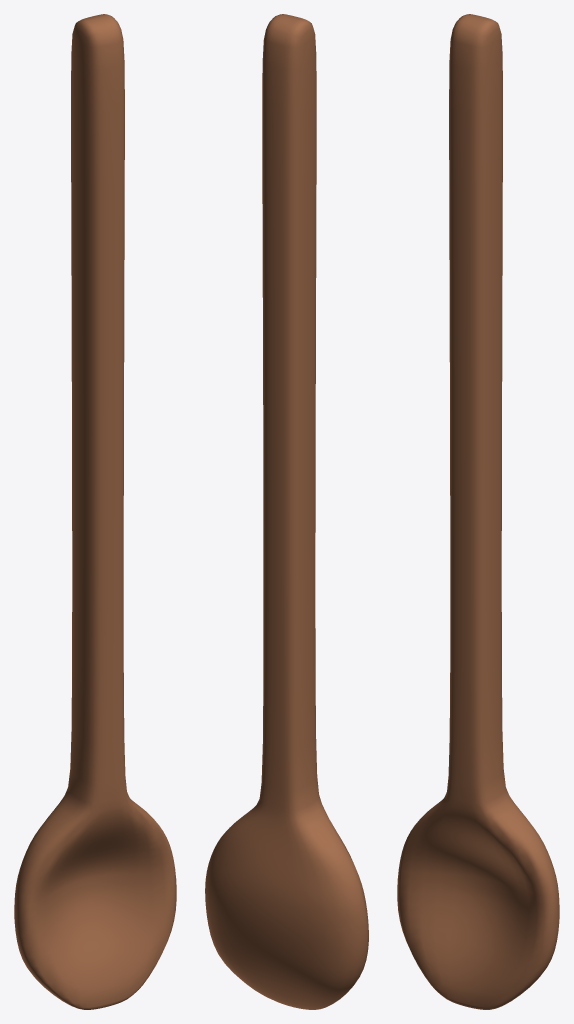
File: Kochlöffel.fbx
3 views of the same model, side by side, from view 1: azimuth 30°, elevation 25°; view 2: azimuth 150°, elevation 25°; view 3: azimuth 330°, elevation 25° (orthographic).
Visible parts, largest first — view 1: Kochlöffel; view 2: Kochlöffel; view 3: Kochlöffel.
Part boxes in pixels (bbox=[...]): Kochlöffel: bbox=[14, 14, 176, 1009]; Kochlöffel: bbox=[205, 14, 368, 1009]; Kochlöffel: bbox=[397, 14, 559, 1009].
Bounding box in the file's own units: 78.39 × 470 × 32.19.
